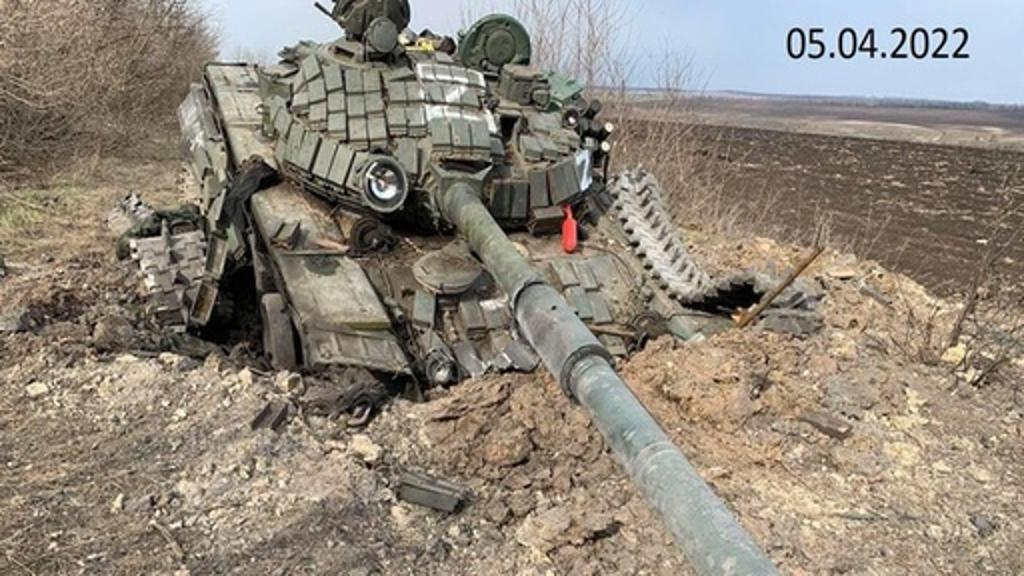TANK: (182, 2, 782, 572)
